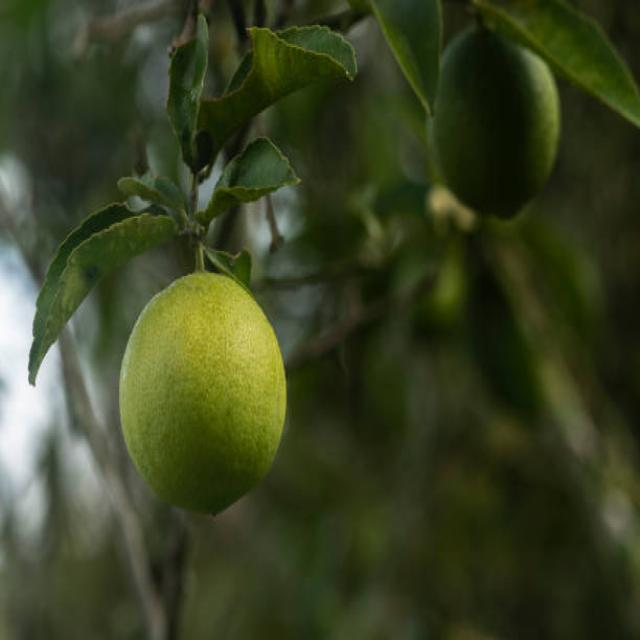Unripe: (117, 267, 286, 520)
